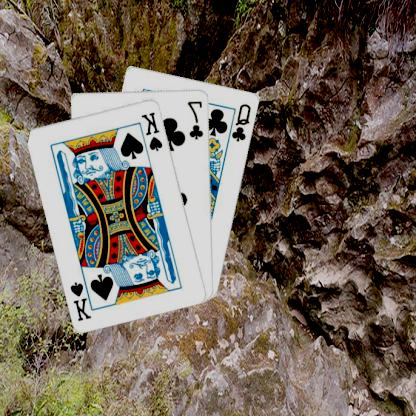7C: (187, 98, 206, 140)
KS: (69, 273, 97, 322), (141, 109, 166, 152)
QC: (231, 101, 255, 143)
